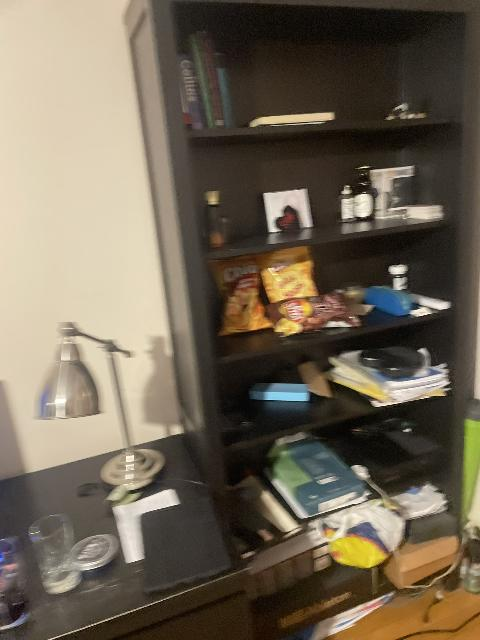Chio Cascaval 125g: (210, 255, 275, 335)
Chio Hula Hoops Cheese 70g: (260, 245, 316, 303)
Lays Beef Grilled Ribs 125g: (265, 291, 365, 334)
